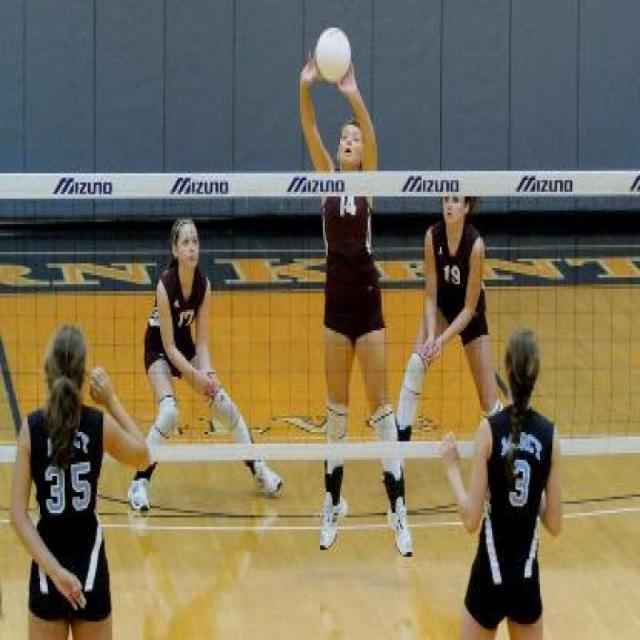volleyball: (314, 23, 352, 83)
